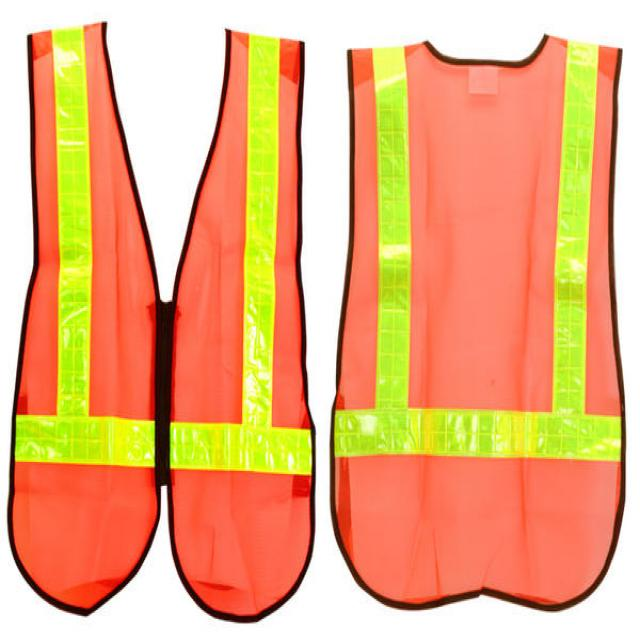Reflective-Jacket: (0, 0, 640, 640), (0, 16, 326, 614)
